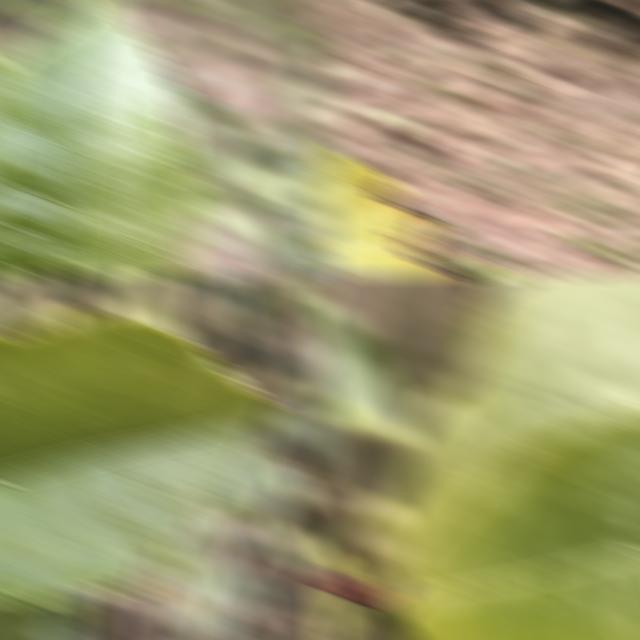Leaf: (0, 310, 283, 607), (384, 272, 640, 576), (0, 0, 200, 278), (318, 140, 448, 278), (318, 297, 415, 444), (170, 535, 246, 639), (219, 454, 294, 517), (283, 403, 334, 468), (269, 522, 323, 583), (121, 272, 176, 319)
